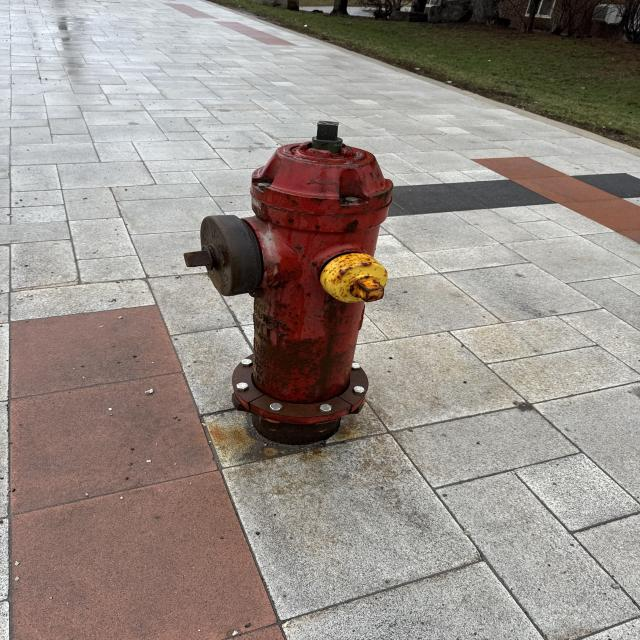Fire hydrant: (182, 120, 394, 447)
